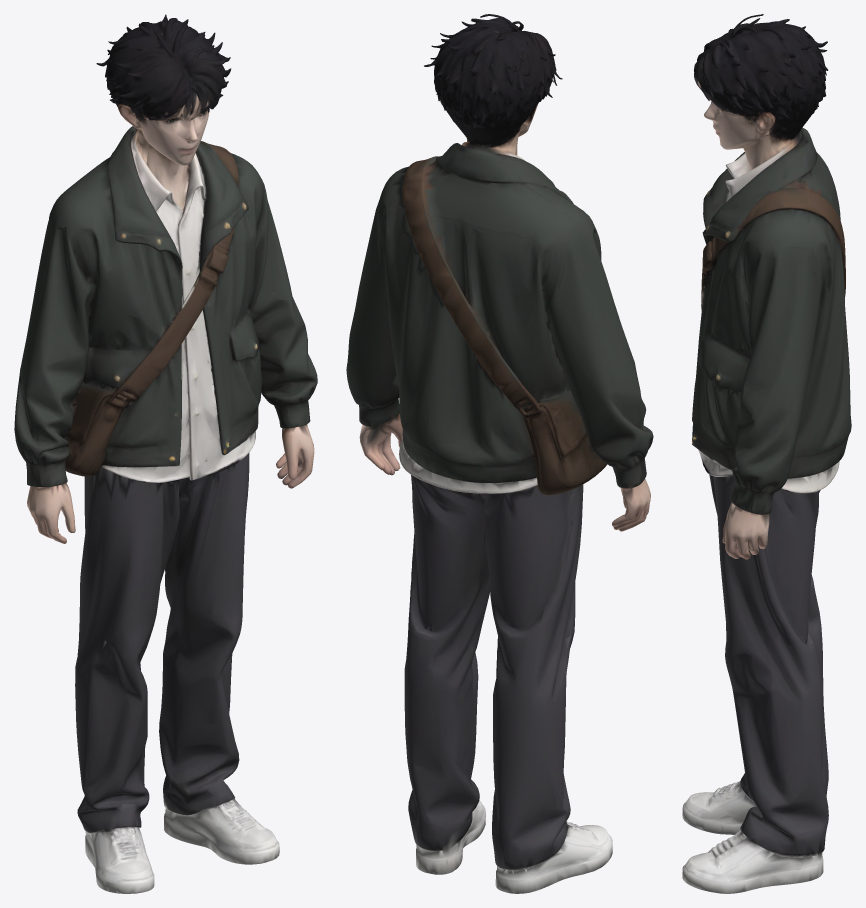
Rendered from linchuan.glb.
3 views of the same model, side by side, from view 1: azimuth 30°, elevation 25°; view 2: azimuth 150°, elevation 25°; view 3: azimuth 270°, elevation 25° (orthographic).
Parts seen in each view (by area): view 1: c2; view 2: c2; view 3: c2.
Boxes of the visible parts, box(x1,y1,x2,y2) form: c2: box(14, 14, 317, 893); c2: box(346, 14, 653, 893); c2: box(682, 14, 851, 893).
Bounding box in the file's own units: 0.6284 × 1.7 × 0.313.
Materials: 1 (1 with a texture image).
